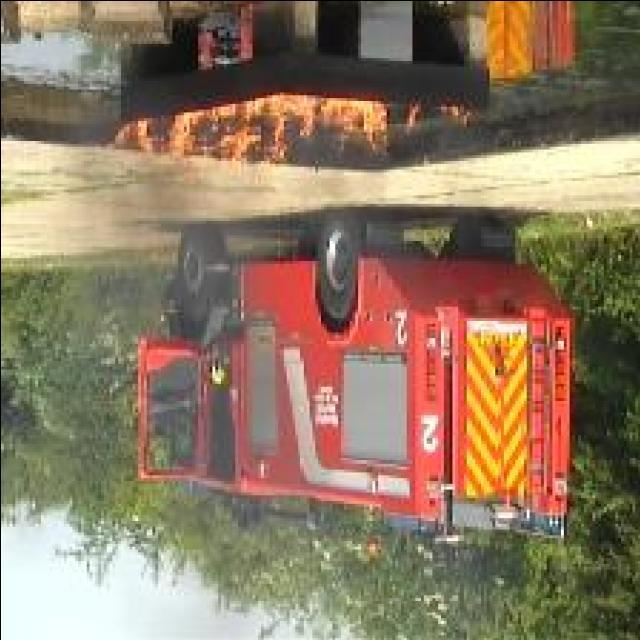Fire: (166, 93, 386, 170), (112, 114, 158, 154)
